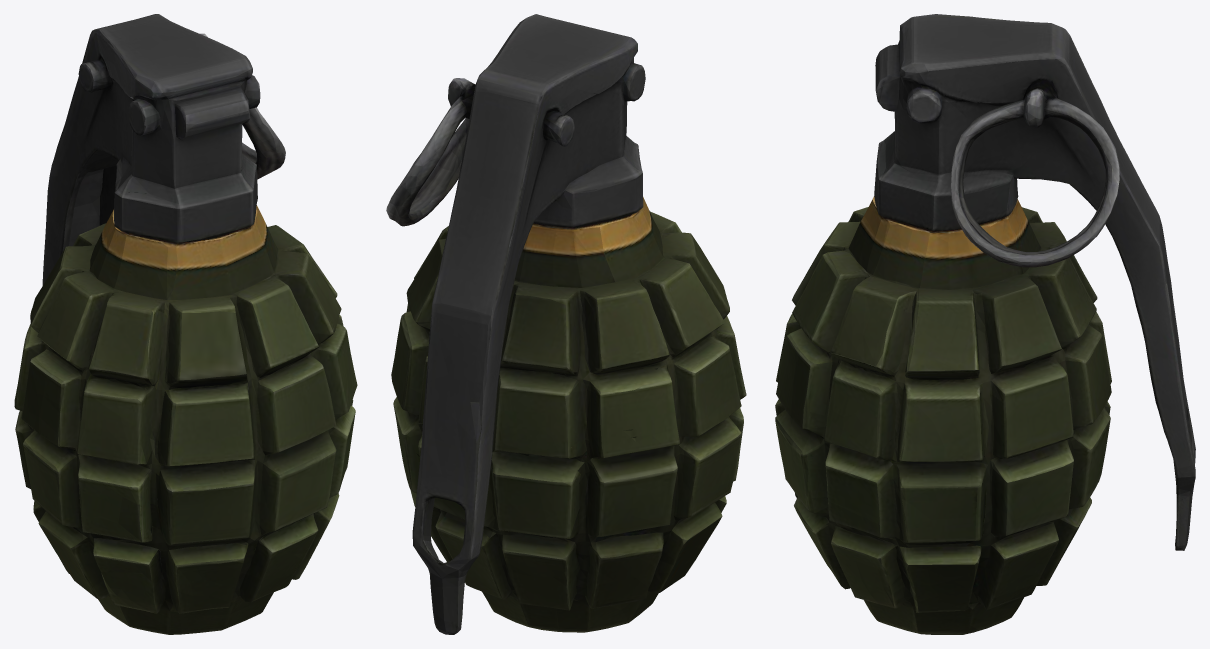
File: frag.glb
3 views of the same model, side by side, from view 1: azimuth 30°, elevation 25°; view 2: azimuth 150°, elevation 25°; view 3: azimuth 270°, elevation 25° (orthographic). The views are drawn at different scales.
Visible parts, largest first — view 1: geometry_0; view 2: geometry_0; view 3: geometry_0.
Part boxes in pixels (x1,y1,x2,y2): geometry_0: (14, 14, 357, 634); geometry_0: (386, 14, 746, 634); geometry_0: (775, 14, 1195, 634).
Bounding box in the file's own units: 0.5716 × 1 × 0.6765.
Materials: 1 (1 with a texture image).
